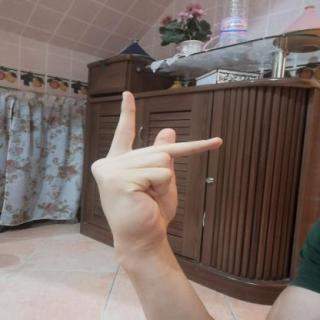DHAA: (77, 86, 232, 252)
